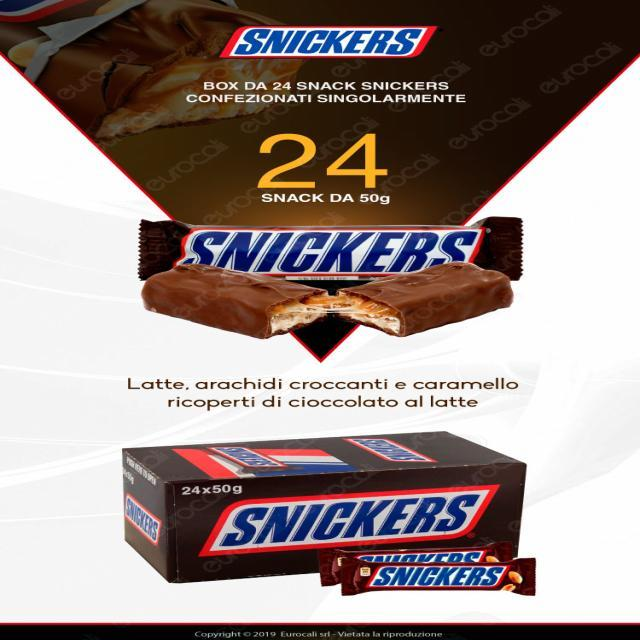Chocolate bar: (137, 213, 535, 281), (338, 555, 544, 598)
Chocolate bar packaged: (129, 259, 539, 342)
